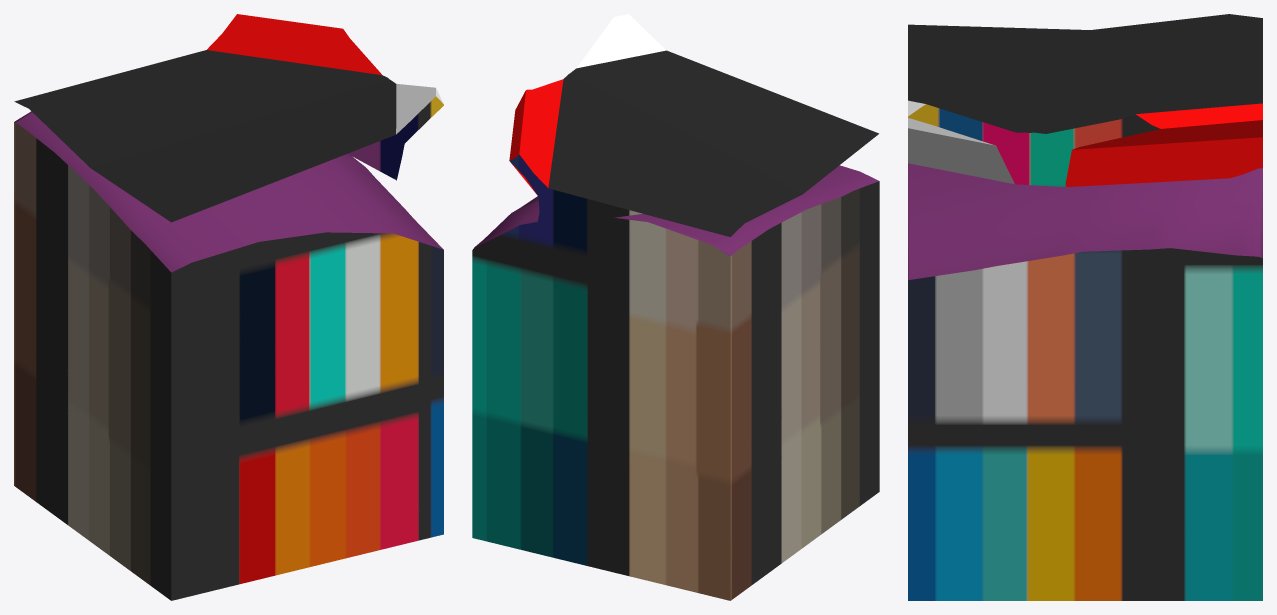
The model's file is tile_8_0_6.gltf.
3 views of the same model, side by side, from view 1: azimuth 30°, elevation 25°; view 2: azimuth 150°, elevation 25°; view 3: azimuth 270°, elevation 25° (orthographic). The views are drawn at different scales.
Visible parts, largest first — view 1: Plane, track.103; view 2: Plane, track.103; view 3: Plane, track.103.
Boxes of the visible parts, x1,y1,x2,y2 form: Plane: (14, 111, 443, 600); track.103: (14, 14, 443, 222); Plane: (472, 165, 879, 600); track.103: (509, 14, 878, 236); Plane: (908, 163, 1262, 600); track.103: (908, 14, 1262, 187).
Size of the model in its own units: 8 by 12.37 by 8.
Materials: 1 (1 with a texture image).
